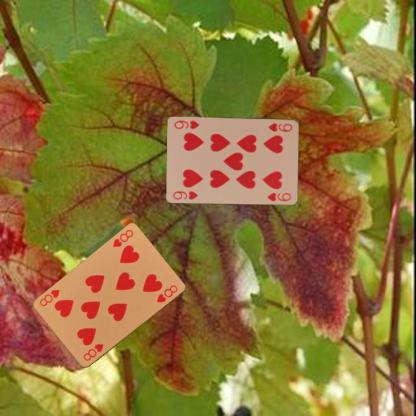8h: (110, 227, 134, 249), (81, 341, 104, 362)
9h: (170, 188, 199, 200), (266, 121, 293, 133)
